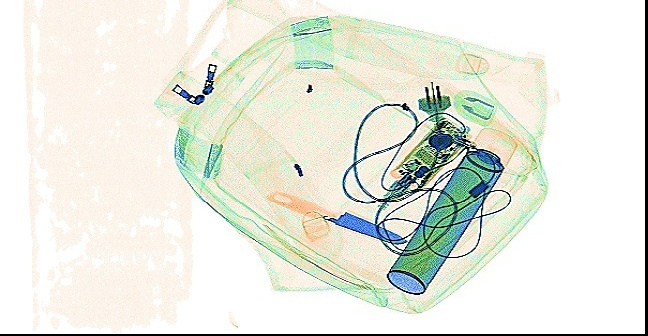knife: (266, 188, 408, 246)
pressure: (384, 123, 517, 296)
